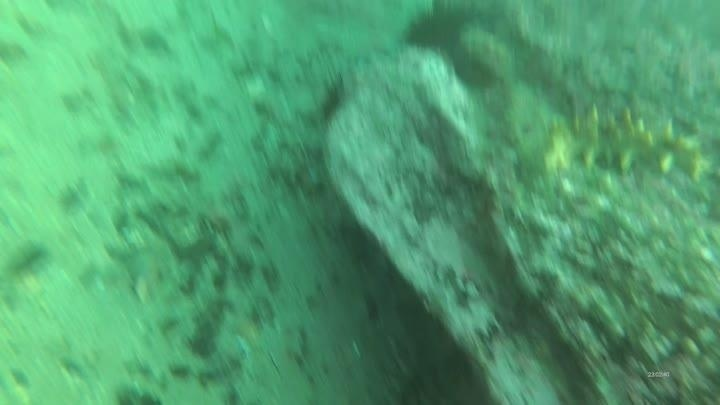echinus: (400, 3, 469, 55)
holothurian: (534, 102, 714, 186)
